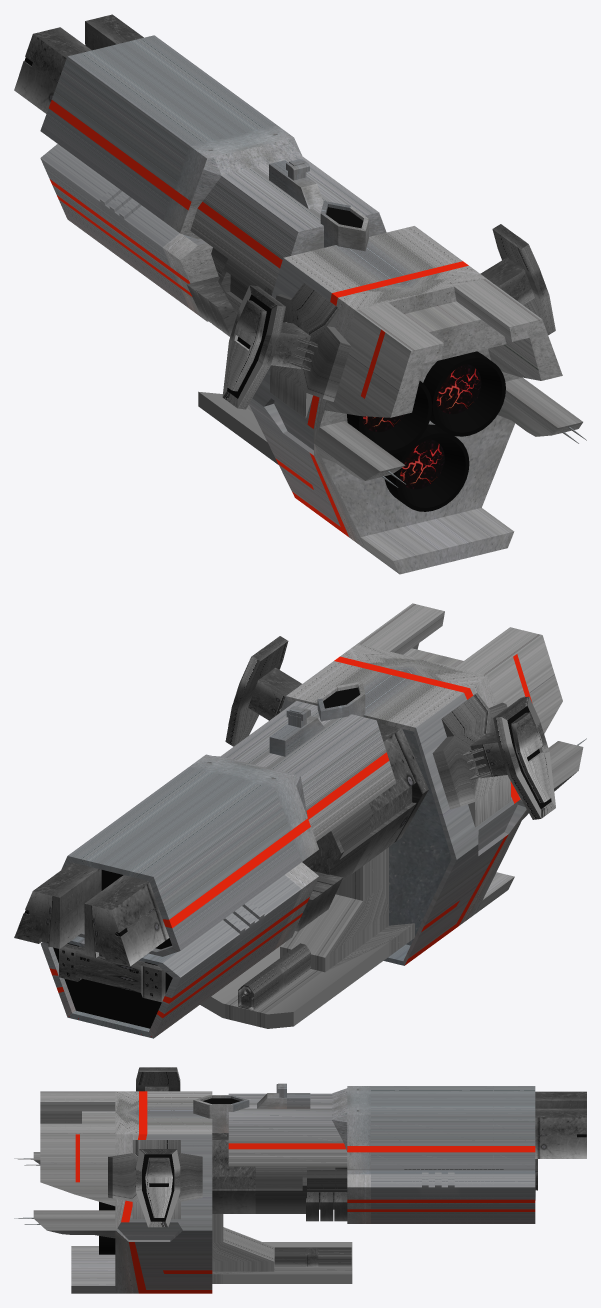
File: Militia_Ship.obj
3 views of the same model, one above another, from view 1: azimuth 30°, elevation 25°; view 2: azimuth 150°, elevation 25°; view 3: azimuth 270°, elevation 25° (orthographic). The views are drawn at different scales.
Visible parts, largest first — view 1: Object_5_Hull, Object_4_Hull-02, Object_8_Thruster, Object_11_painted_Hull, Object_9_Material.003, Object_6_Innerwall; view 2: Object_5_Hull, Object_4_Hull-02, Object_11_painted_Hull, Object_6_Innerwall; view 3: Object_5_Hull, Object_4_Hull-02, Object_11_painted_Hull, Object_6_Innerwall, Object_8_Thruster.
Boxes of the visible parts, bbox=[...] form: Object_5_Hull: bbox=[40, 35, 586, 574]; Object_4_Hull-02: bbox=[14, 14, 555, 464]; Object_8_Thruster: bbox=[347, 351, 505, 511]; Object_11_painted_Hull: bbox=[49, 100, 468, 537]; Object_9_Material.003: bbox=[362, 363, 481, 489]; Object_6_Innerwall: bbox=[24, 57, 363, 398]; Object_5_Hull: bbox=[40, 603, 586, 1038]; Object_4_Hull-02: bbox=[14, 636, 555, 1028]; Object_11_painted_Hull: bbox=[49, 654, 532, 1018]; Object_6_Innerwall: bbox=[24, 687, 551, 1028]; Object_5_Hull: bbox=[14, 1083, 535, 1293]; Object_4_Hull-02: bbox=[108, 1067, 586, 1283]; Object_11_painted_Hull: bbox=[75, 1091, 535, 1293]; Object_6_Innerwall: bbox=[142, 1098, 586, 1221]; Object_8_Thruster: bbox=[99, 1201, 115, 1254].
Size of the model in its own units: 21.29 by 18.01 by 49.04.
Materials: 9 (3 with a texture image).
